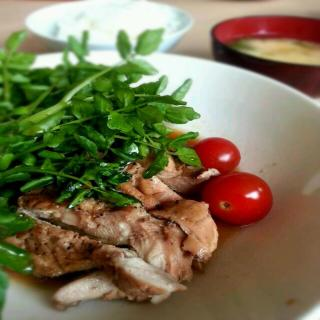tomato: (202, 170, 278, 227), (193, 135, 246, 173)
